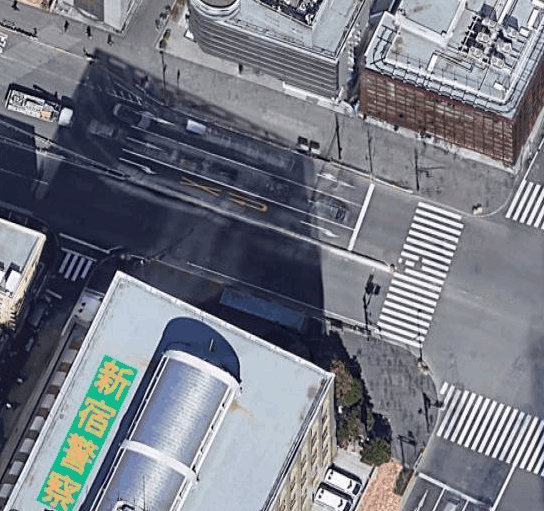facility: (364, 2, 542, 106)
rooftop: (50, 267, 332, 510)
